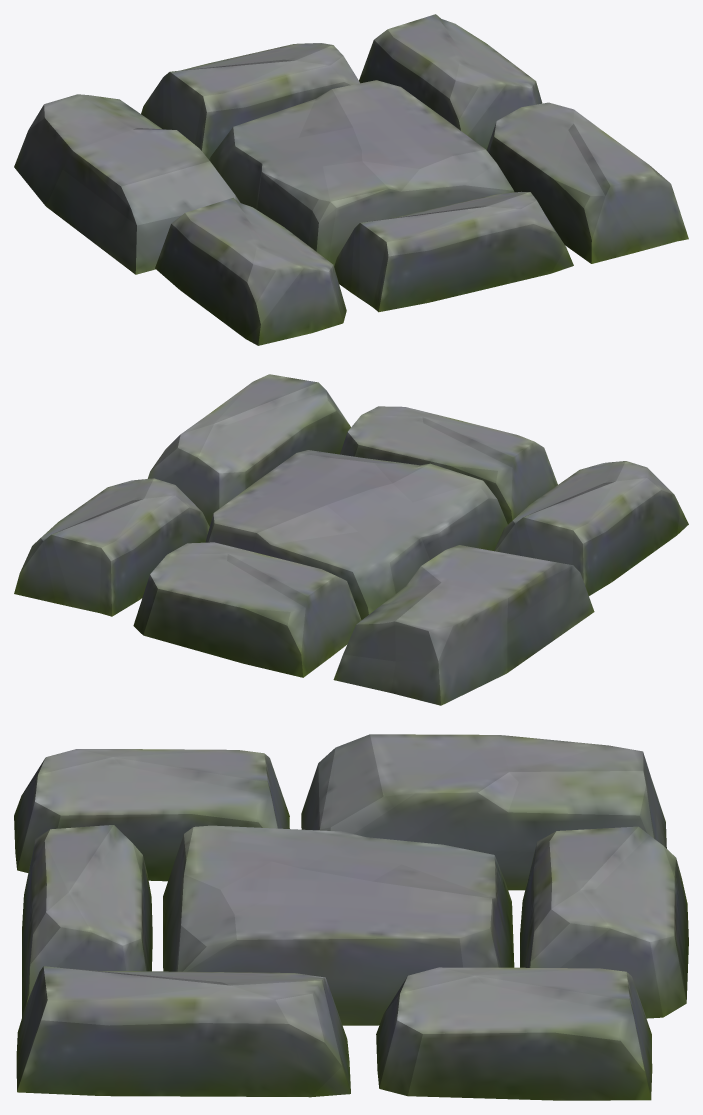
The model's file is Rock_Path_Square_Smal.glb.
3 views of the same model, one above another, from view 1: azimuth 30°, elevation 25°; view 2: azimuth 150°, elevation 25°; view 3: azimuth 270°, elevation 25° (orthographic). The views are drawn at different scales.
Visible parts, largest first — view 1: RockPath_Square_Small_2; view 2: RockPath_Square_Small_2; view 3: RockPath_Square_Small_2.
Part boxes in pixels (x1,y1,x2,y2): RockPath_Square_Small_2: [14, 14, 688, 345]; RockPath_Square_Small_2: [14, 374, 688, 705]; RockPath_Square_Small_2: [14, 734, 688, 1100].
Bounding box in the file's own units: 0.9927 × 0.1493 × 0.9661.
Materials: 1 (1 with a texture image).
